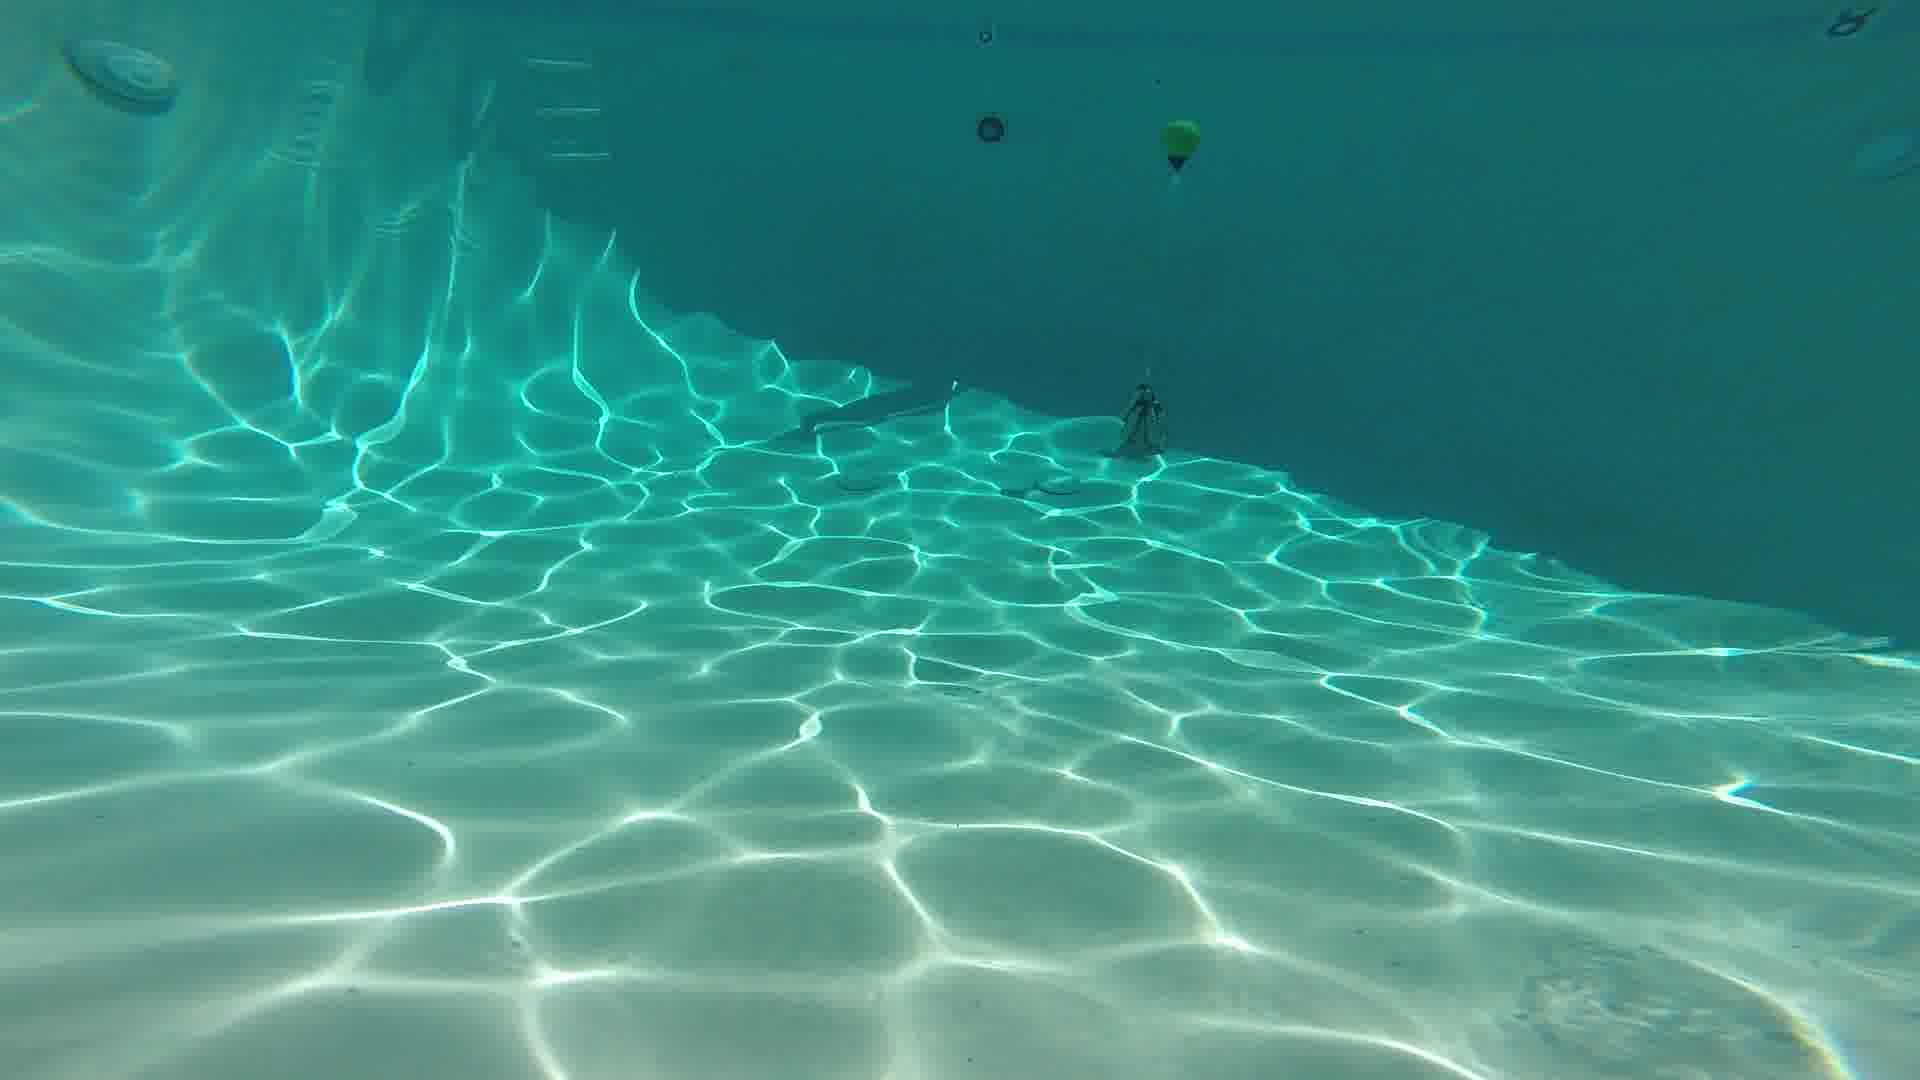yellow_buoy: (1164, 119, 1197, 167)
